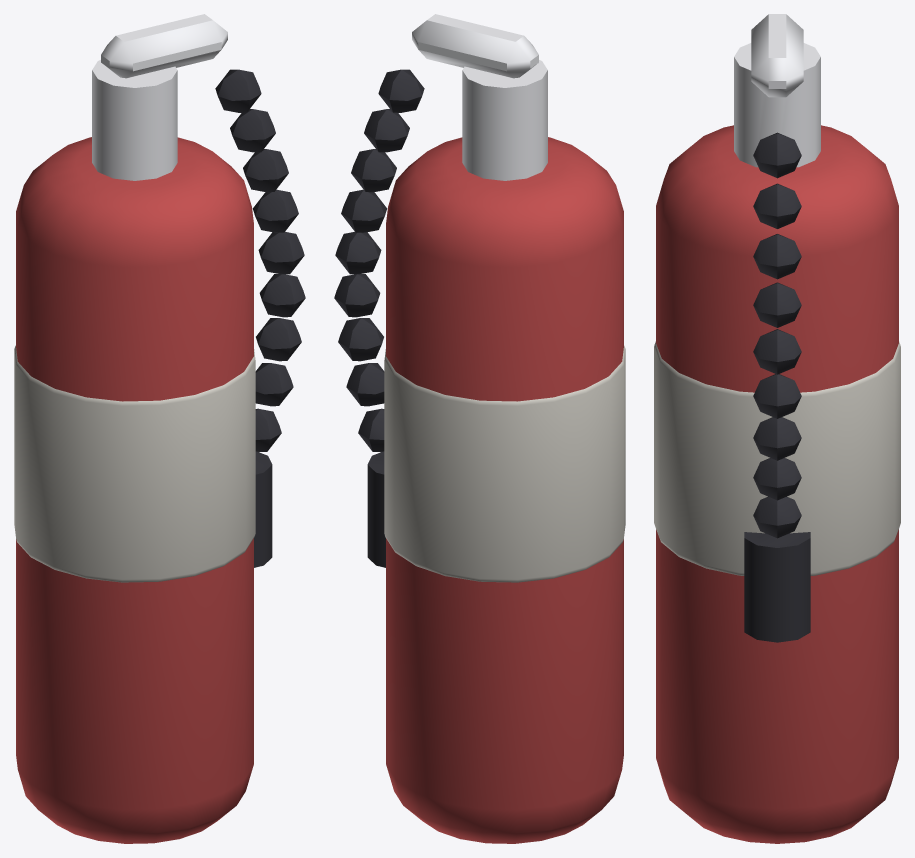
File: kr_extinguisher.glb
3 renders of one model, left to right at view 1: azimuth 30°, elevation 25°; view 2: azimuth 150°, elevation 25°; view 3: azimuth 270°, elevation 25°, orthographic.
Visible parts, largest first — view 1: vc_m0_r4, vc_m8_r2; view 2: vc_m0_r4, vc_m8_r2; view 3: vc_m0_r4, vc_m8_r2.
Boxes of the visible parts, bbox=[...] form: vc_m0_r4: bbox=[14, 69, 305, 843]; vc_m8_r2: bbox=[92, 14, 227, 180]; vc_m0_r4: bbox=[334, 69, 625, 843]; vc_m8_r2: bbox=[412, 14, 547, 180]; vc_m0_r4: bbox=[654, 125, 900, 843]; vc_m8_r2: bbox=[734, 14, 820, 167].
Bounding box in the file's own units: 0.1849 × 0.5025 × 0.142.
